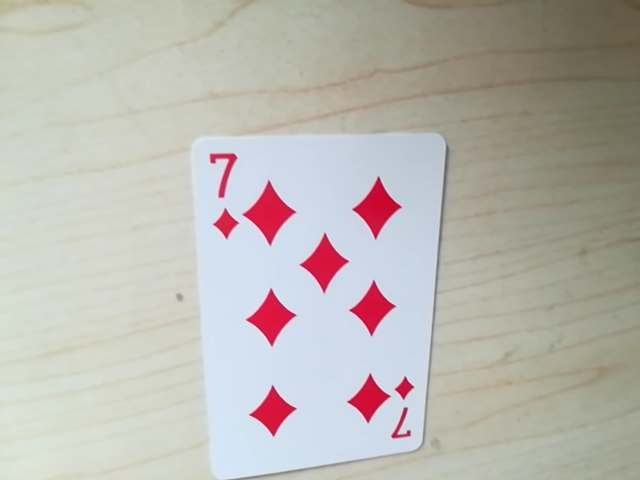fk 7: (379, 399, 418, 451), (203, 139, 245, 179)
